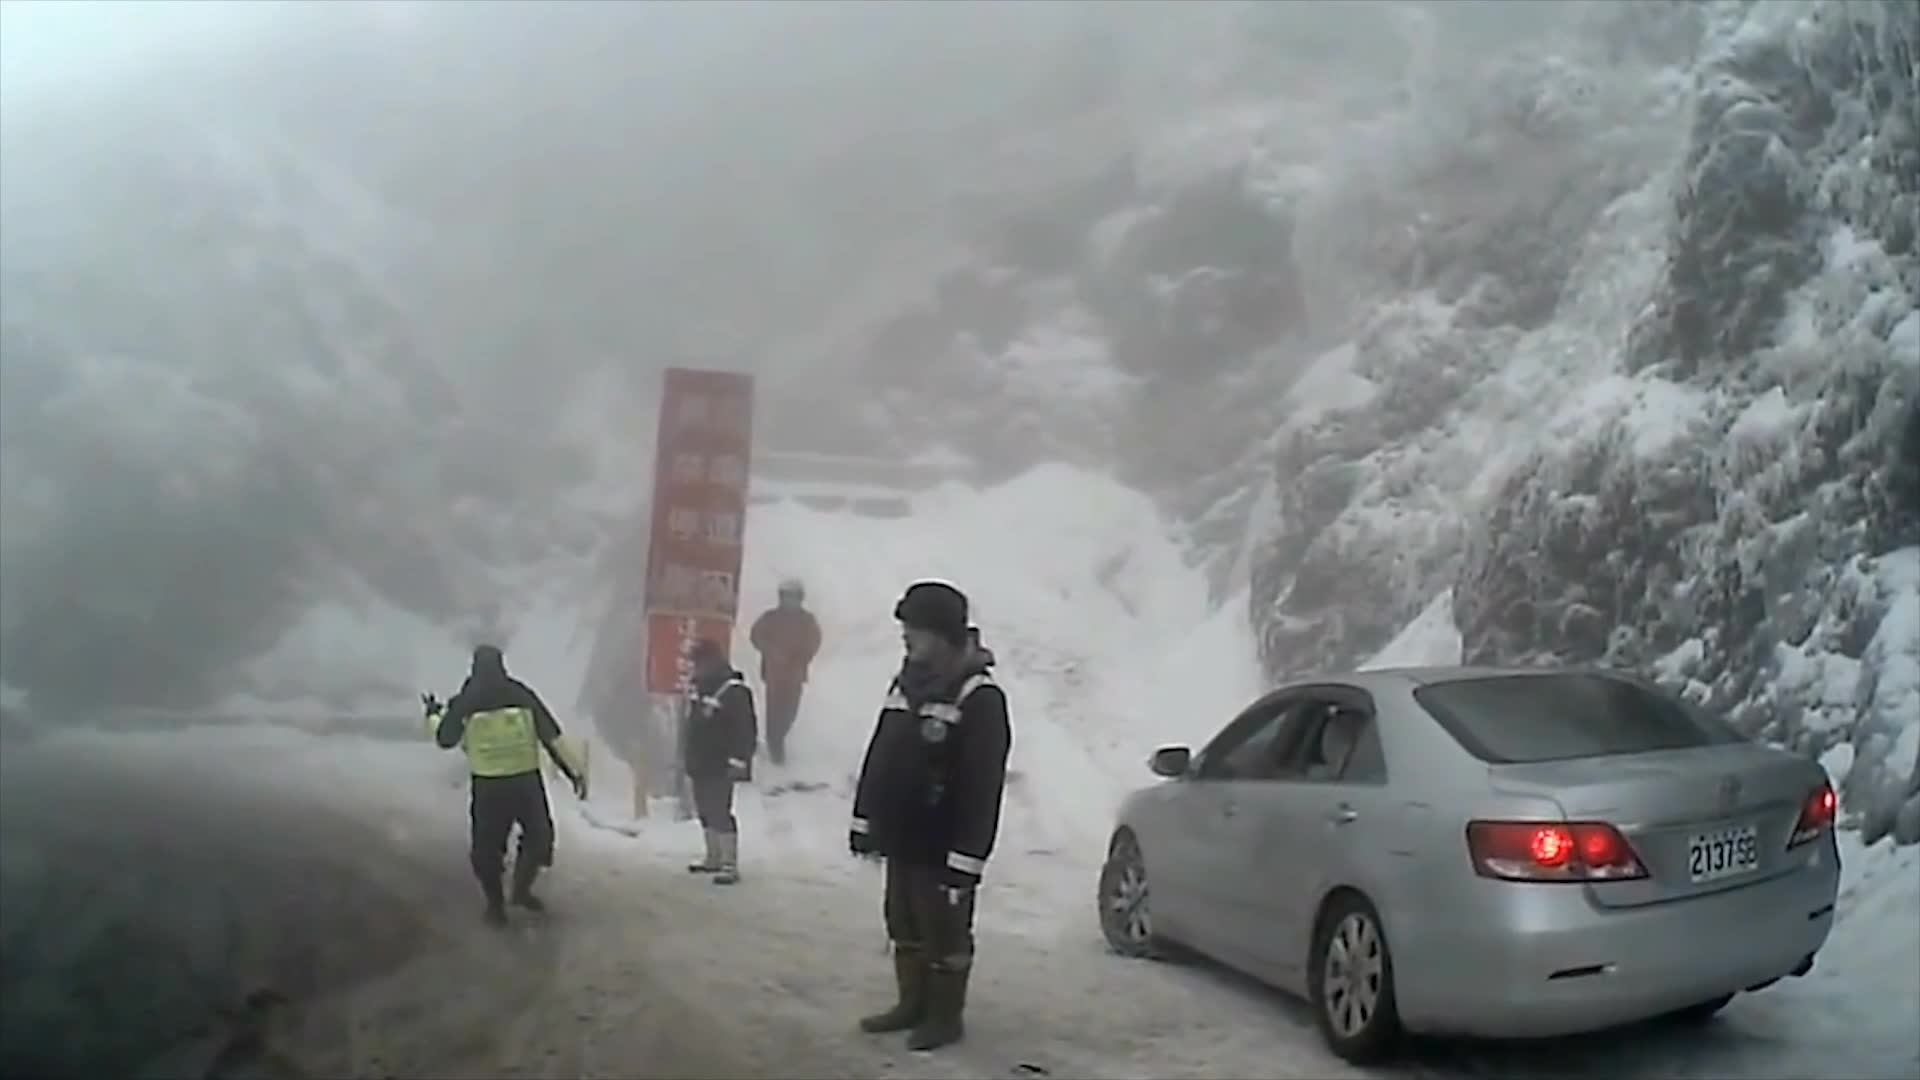pedestrian: (839, 583, 1011, 1055), (414, 648, 586, 931), (681, 640, 754, 886), (747, 578, 822, 766)
vehicle: (1092, 663, 1839, 1059)
